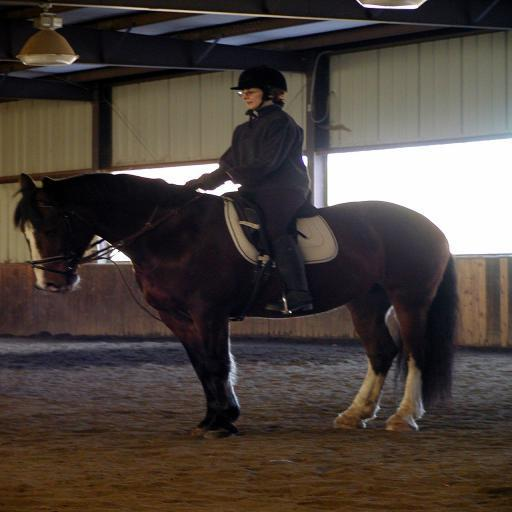horse: (14, 172, 462, 442)
